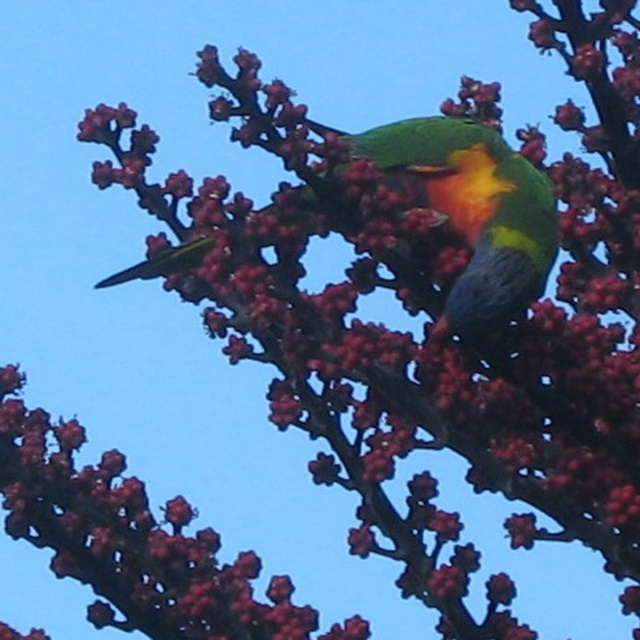Parrot: (82, 98, 586, 369)
